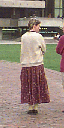person: (17, 18, 55, 116)
